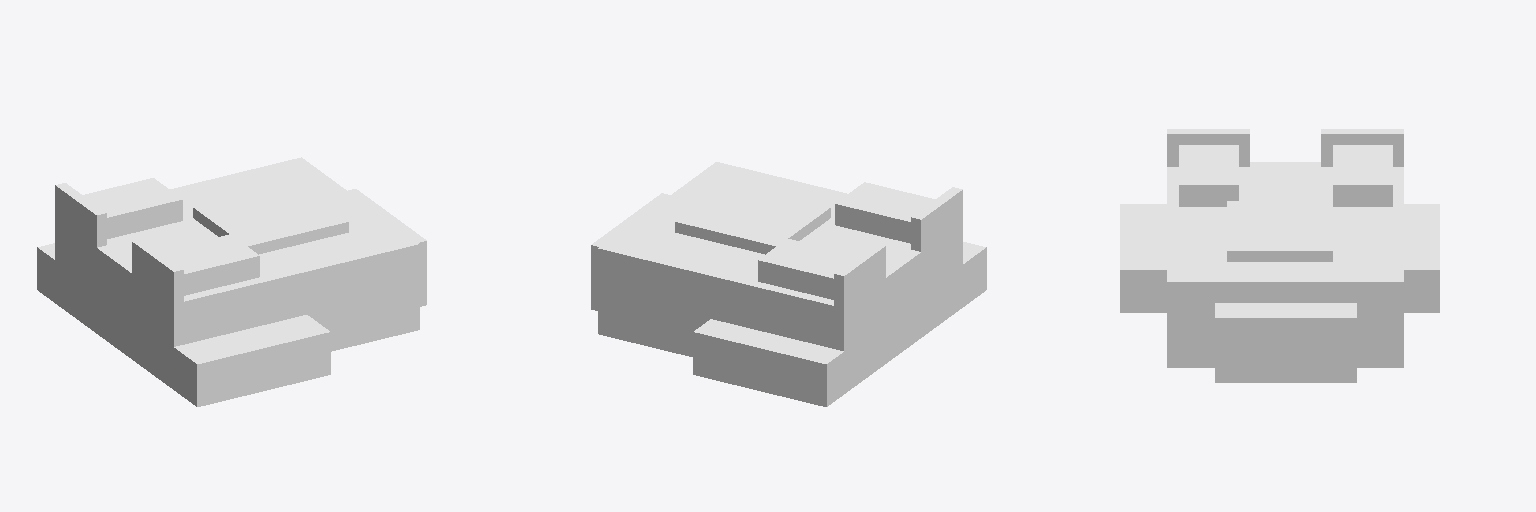
Rendered from TankTurret.obj.
The picture shows the model from 3 angles: view 1: azimuth 30°, elevation 25°; view 2: azimuth 150°, elevation 25°; view 3: azimuth 270°, elevation 25°; orthographic projection.
Visible parts, largest first — view 1: TankTurret; view 2: TankTurret; view 3: TankTurret.
Part boxes in pixels (x1,y1,x2,y2): TankTurret: (37,157,426,406); TankTurret: (591,162,986,406); TankTurret: (1120,129,1439,382).
Size of the model in its own units: 27 by 11 by 27.